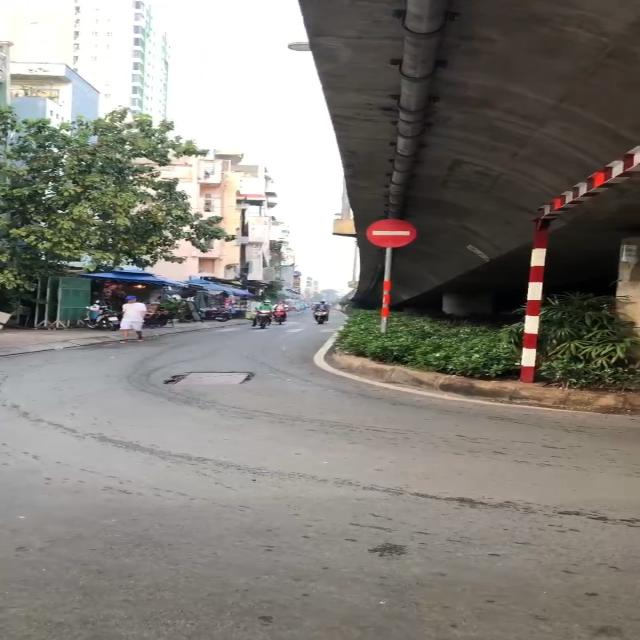Bien bao cam di nguoc chieu: (364, 216, 420, 249)
